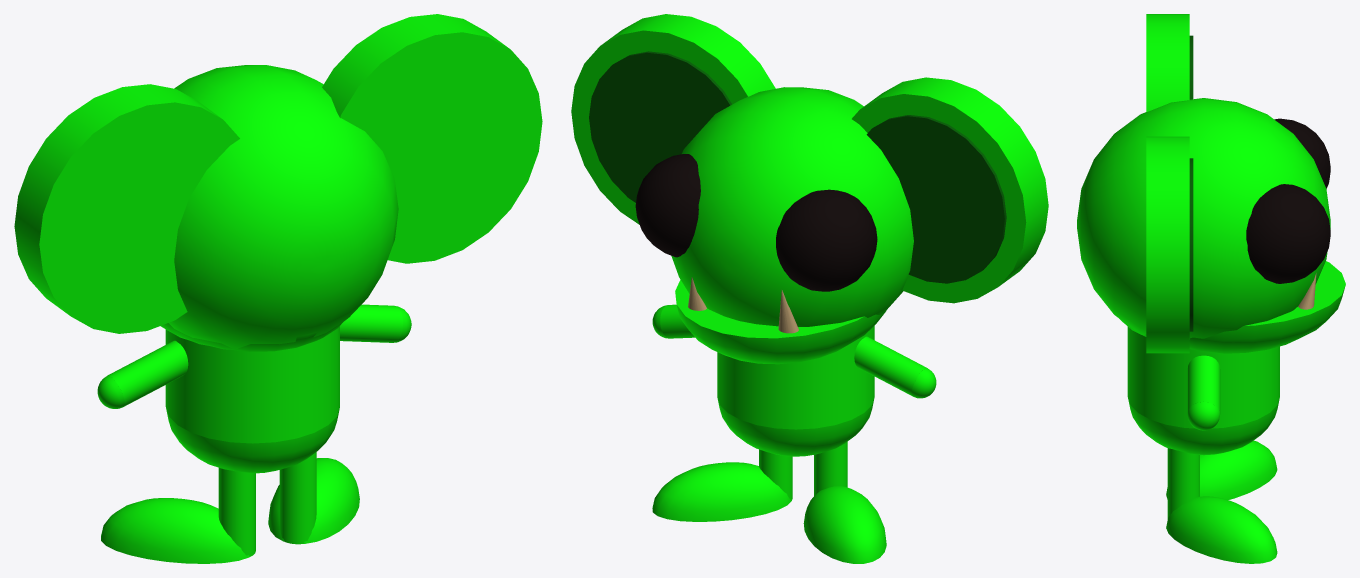
The model's file is goblin_round_ears.glb.
3 views of the same model, side by side, from view 1: azimuth 30°, elevation 25°; view 2: azimuth 150°, elevation 25°; view 3: azimuth 270°, elevation 25° (orthographic). The views are drawn at different scales.
Parts seen in each view (by area): view 1: mergedBlocks(Clone); view 2: mergedBlocks(Clone); view 3: mergedBlocks(Clone).
Boxes of the visible parts, x1,y1,x2,y2 form: mergedBlocks(Clone): (14,14,542,563); mergedBlocks(Clone): (571,14,1048,563); mergedBlocks(Clone): (1077,14,1345,563).
Bounding box in the file's own units: 0.7 × 0.65 × 0.371.
